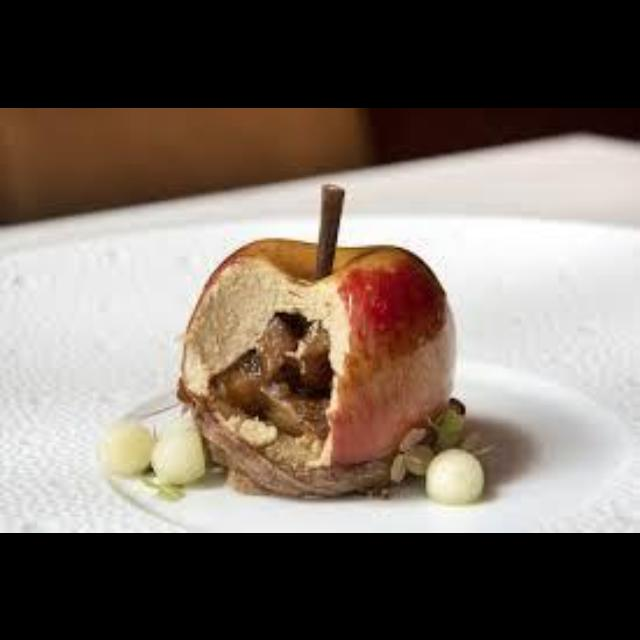apple: (177, 237, 454, 496)
